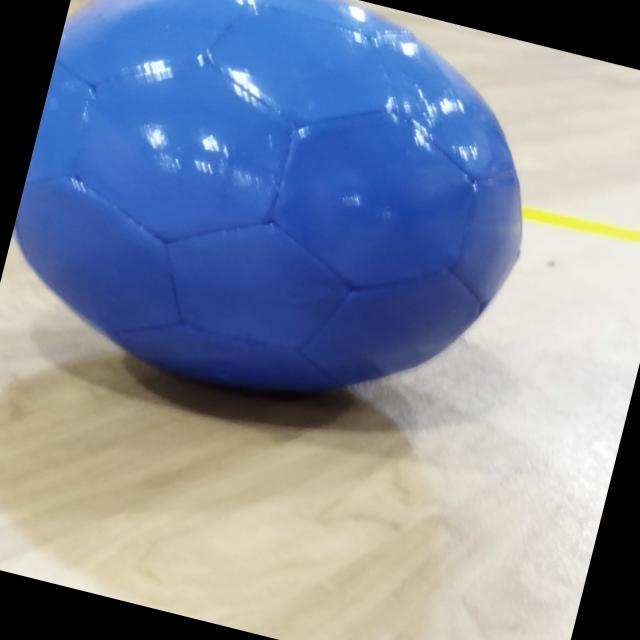blue_ball: (0, 0, 576, 461)
